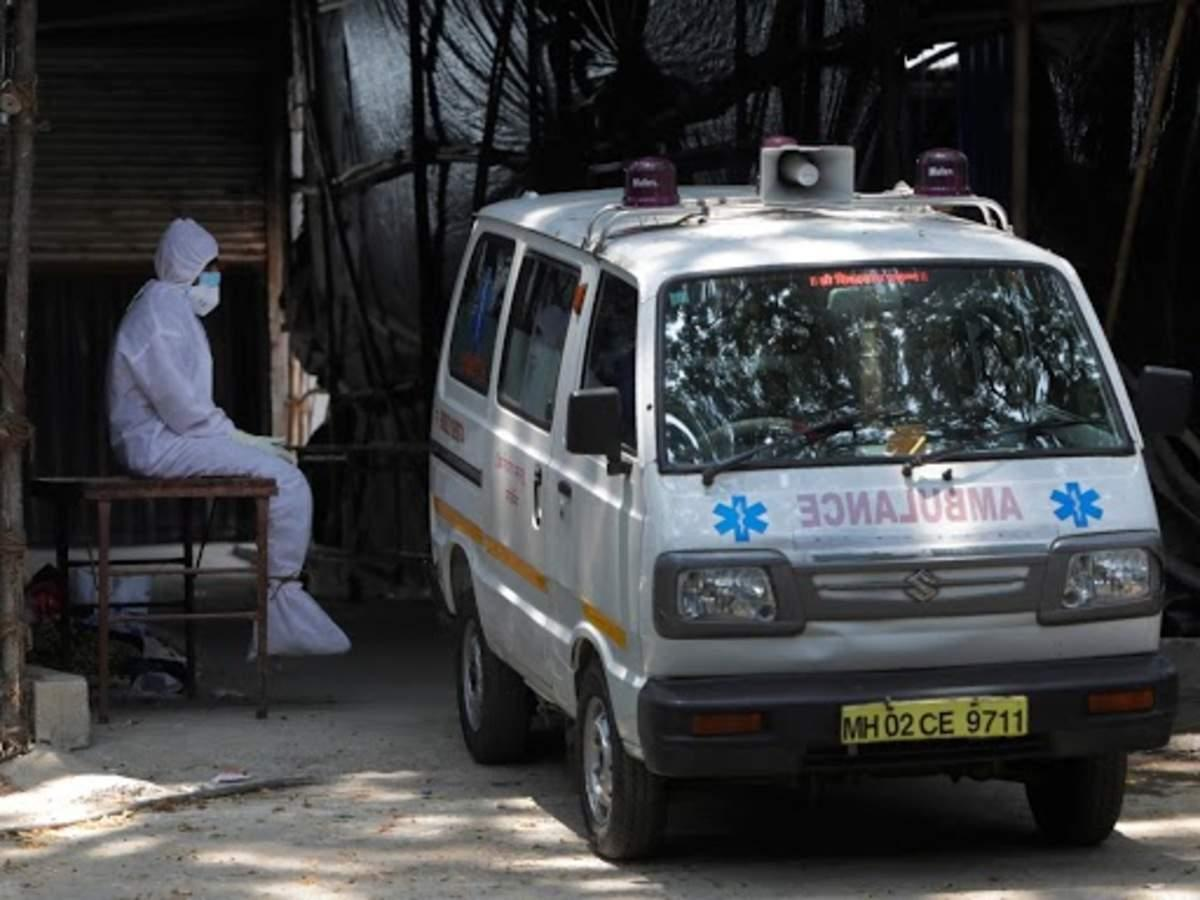Emergency-Vehicles: (369, 76, 1200, 876)
